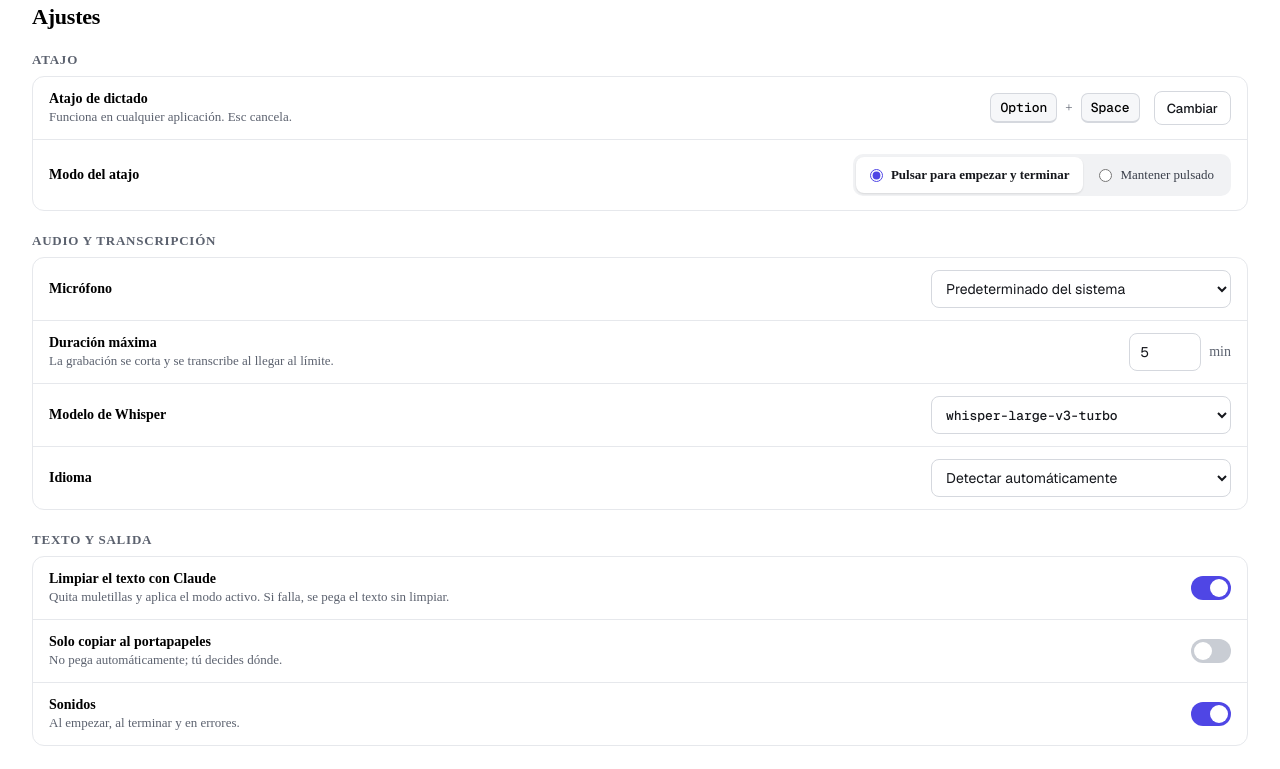
Test: Settings › avisa de cambios sin guardar, descarta y guarda
The width and height of the screenshot is (1280, 769).
Click the radio button labelled "Mantener pulsado".
click(1106, 175)  # box [1100, 168, 1112, 182]
(page scrolled)
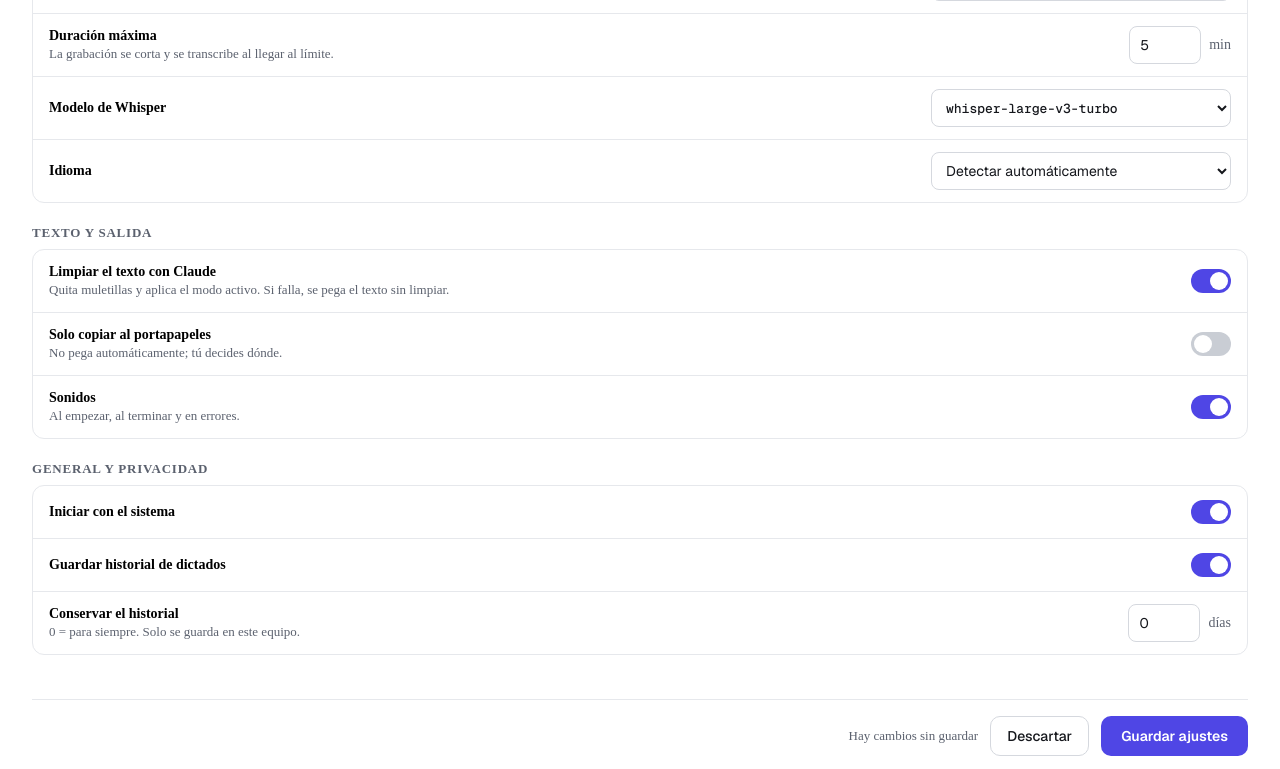
Expected: the text "Hay cambios sin guardar" is shown, [849, 728, 978, 744]
Click the button "Descartar".
click(1040, 736)  # box [990, 716, 1089, 756]
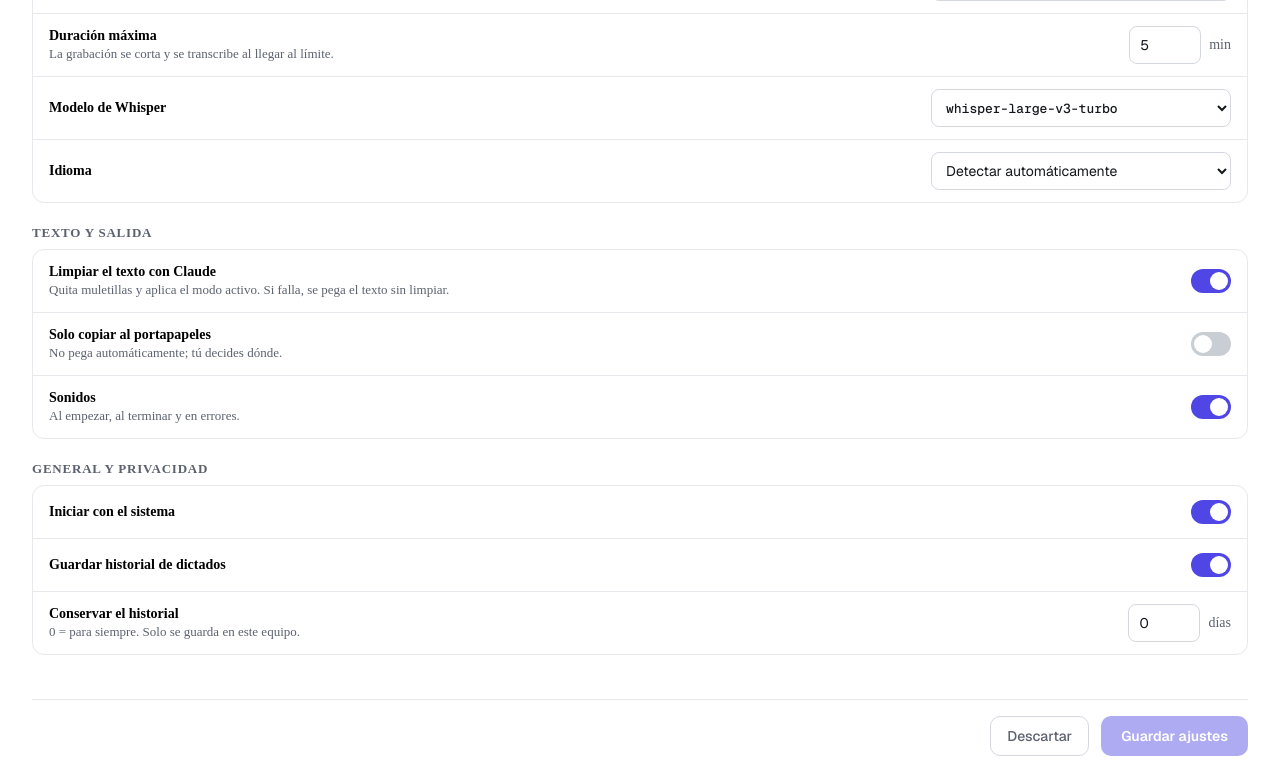
Expected: the text "Hay cambios sin guardar" is gone
Click the switch labelled "Sonidos Al empezar, al terminar y en errores.".
click(72, 398)  # box [33, 375, 1247, 438]
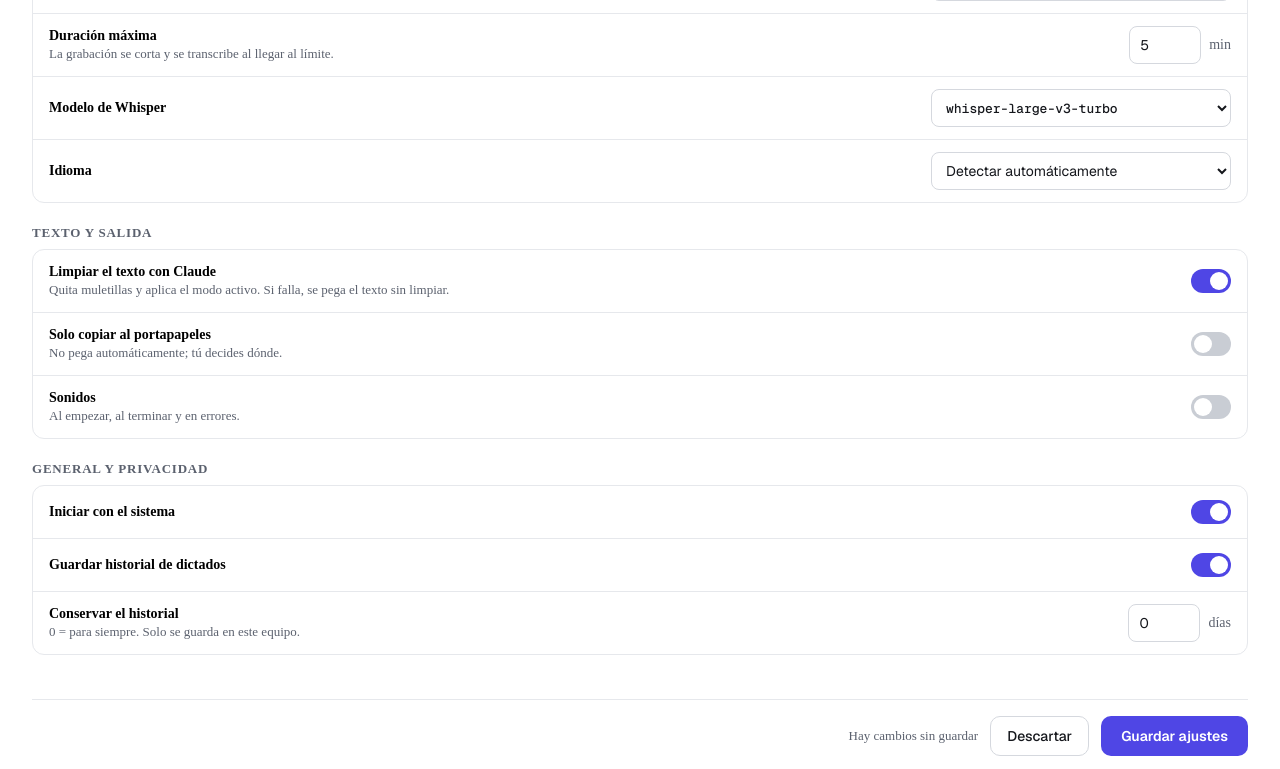
Click the button "Guardar ajustes".
click(1175, 736)  # box [1101, 716, 1248, 756]
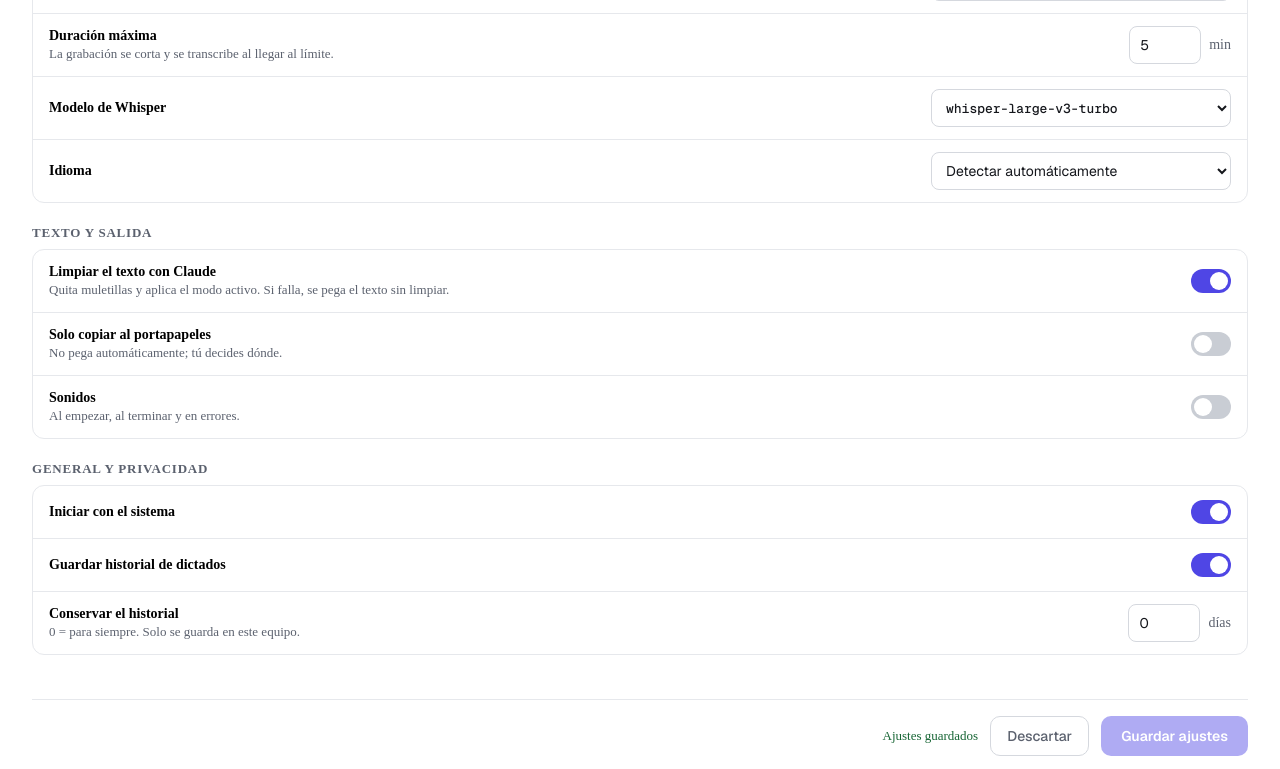
Expected: the text "Ajustes guardados" is shown, [882, 728, 978, 744]
